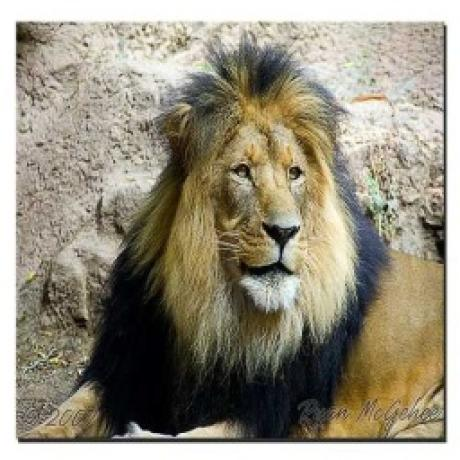Lion: (22, 36, 449, 436)
